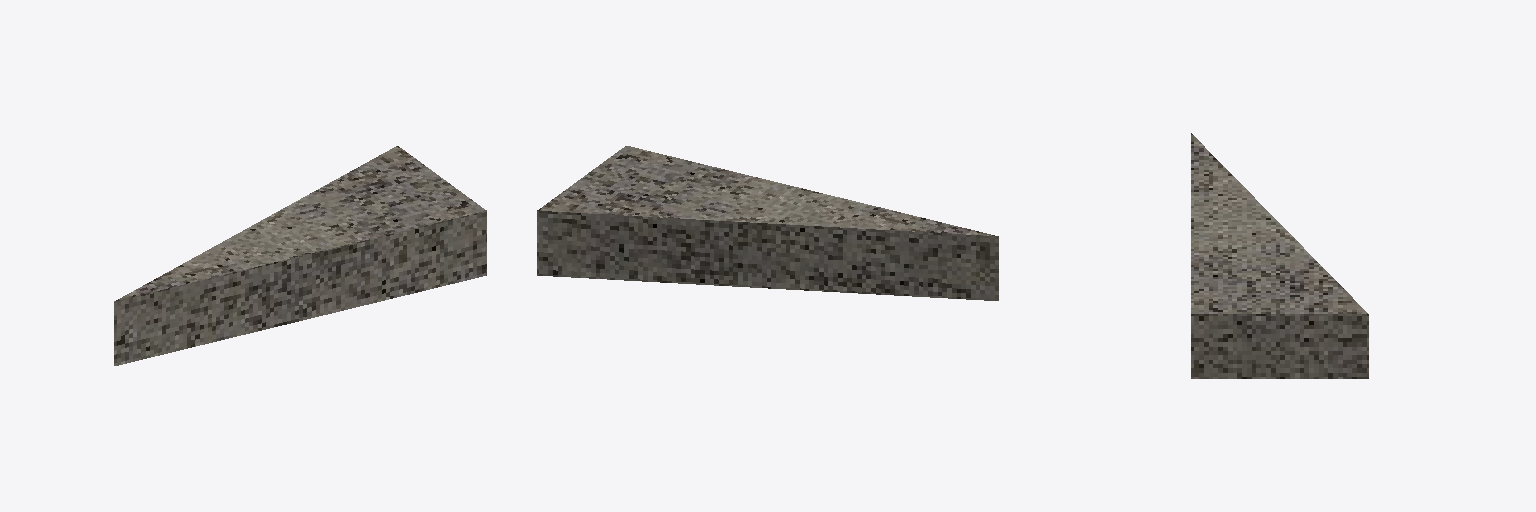
3 views of the same model, side by side, from view 1: azimuth 30°, elevation 25°; view 2: azimuth 150°, elevation 25°; view 3: azimuth 270°, elevation 25° (orthographic).
Size of the model in its own units: 1 by 0.1667 by 0.4142.
Materials: 1 (1 with a texture image).